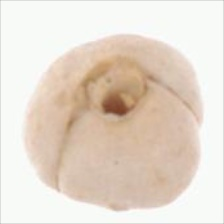L3: (69, 59, 153, 124)
L4: (26, 35, 203, 210)
